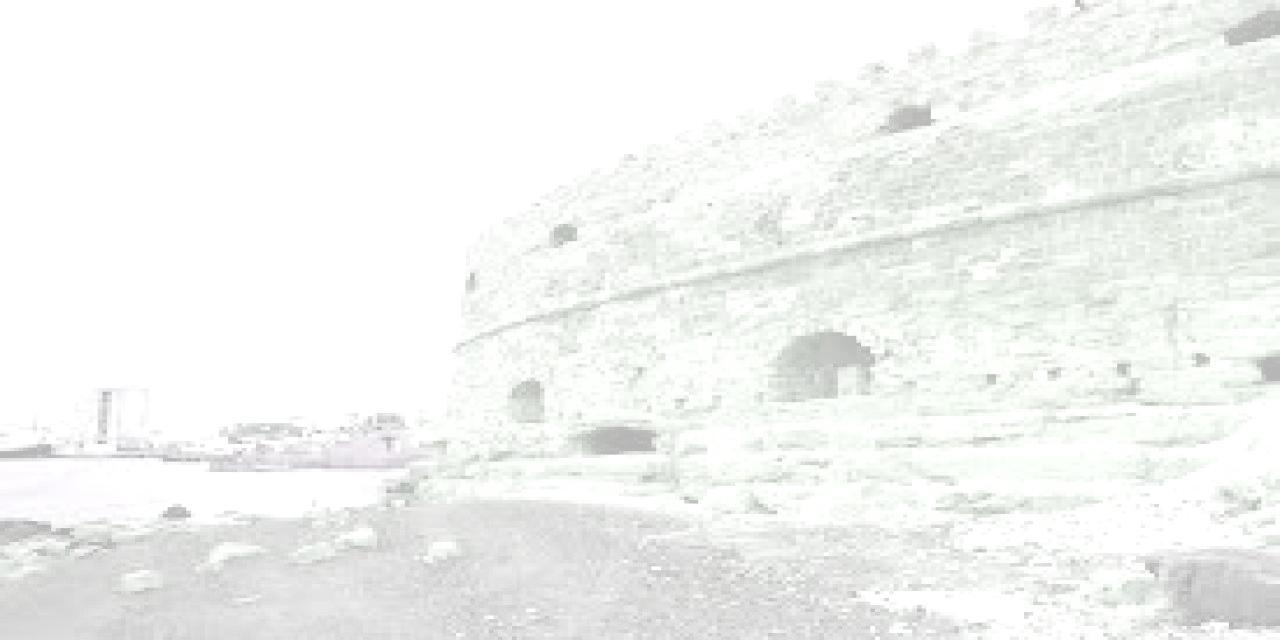Kules: (438, 1, 1280, 428)
